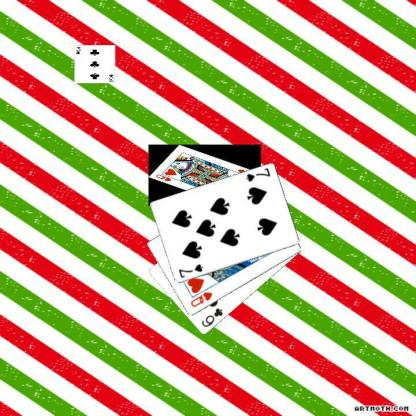6C: (199, 306, 224, 328)
7S: (176, 262, 204, 280), (243, 166, 272, 183)
QH: (188, 290, 214, 308)
